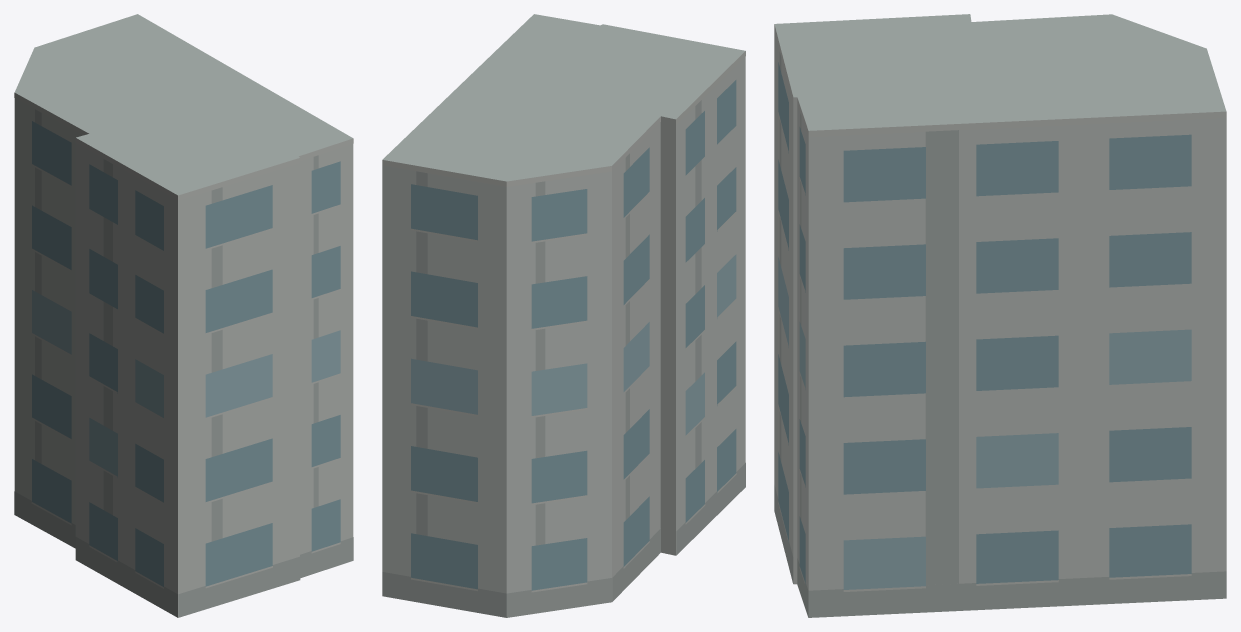
The model's file is survey-upis-32987986.glb.
3 renders of one model, left to right at view 1: azimuth 30°, elevation 25°; view 2: azimuth 150°, elevation 25°; view 3: azimuth 270°, elevation 25°, orthographic. The views are drawn at different scales.
Parts seen in each view (by area): view 1: survey-upis-32987986.tmp; view 2: survey-upis-32987986.tmp; view 3: survey-upis-32987986.tmp.
Boxes of the visible parts, x1,y1,x2,y2 form: survey-upis-32987986.tmp: [14, 14, 353, 617]; survey-upis-32987986.tmp: [382, 14, 745, 617]; survey-upis-32987986.tmp: [774, 14, 1226, 617].
Size of the model in its own units: 9.86 by 19.15 by 16.12.
